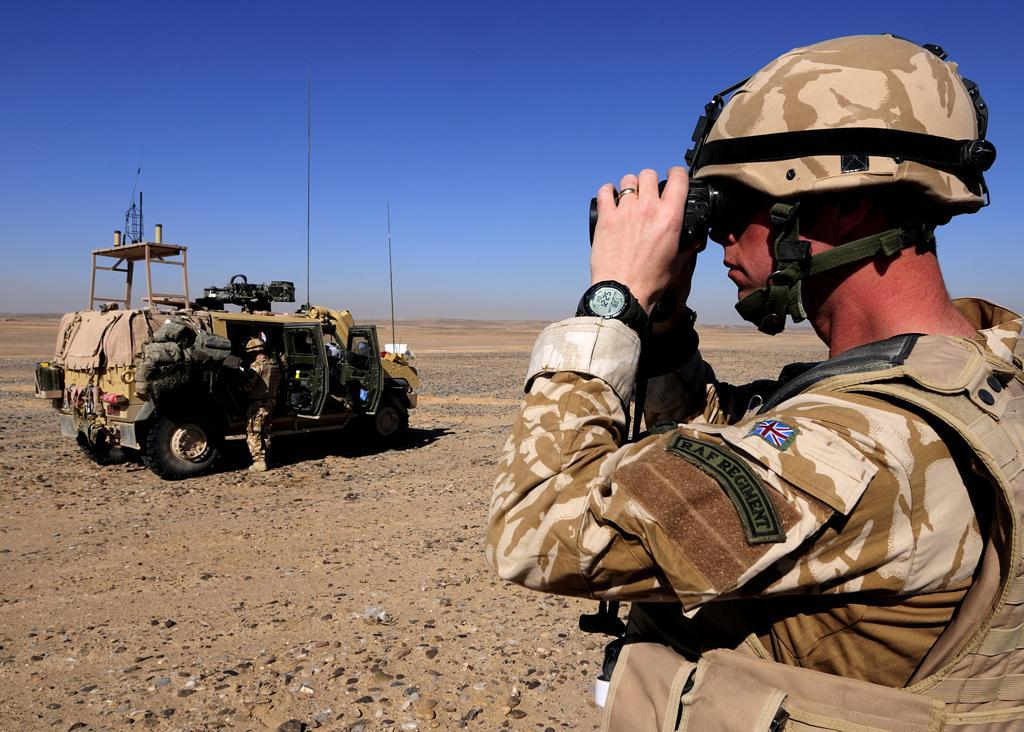face: (721, 141, 779, 309)
